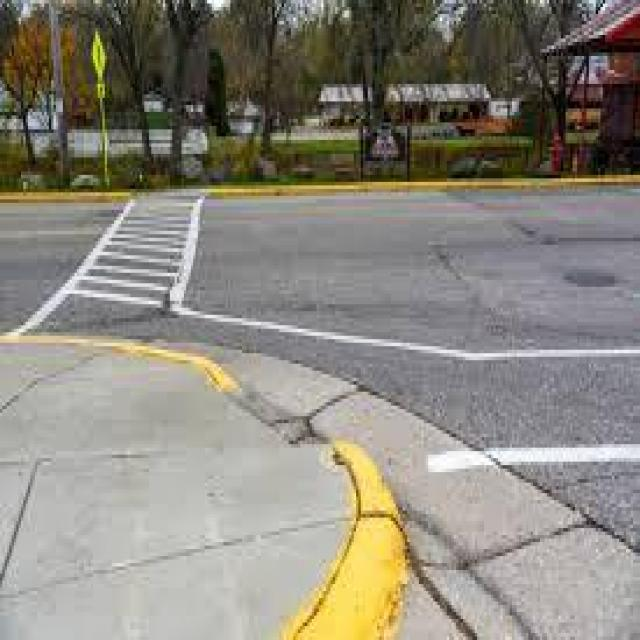curb: (291, 512, 408, 636), (330, 432, 408, 547)
